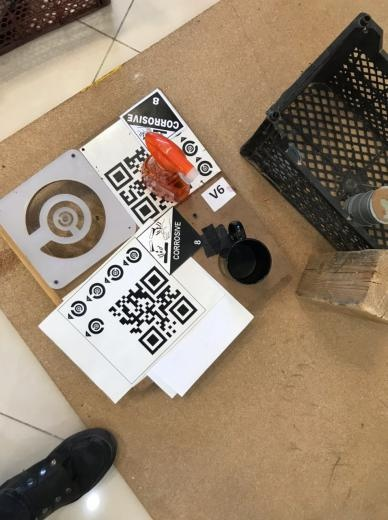Corrosive: (136, 207, 205, 276), (119, 88, 186, 153)
